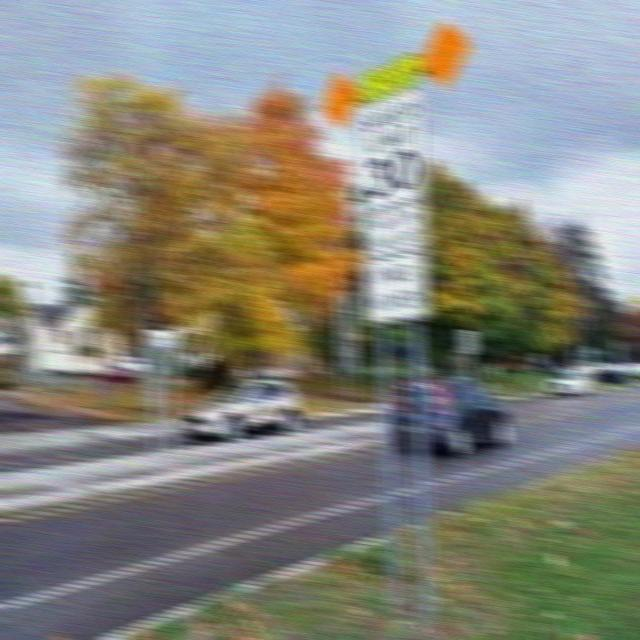speedLimit30: (354, 91, 427, 203)
